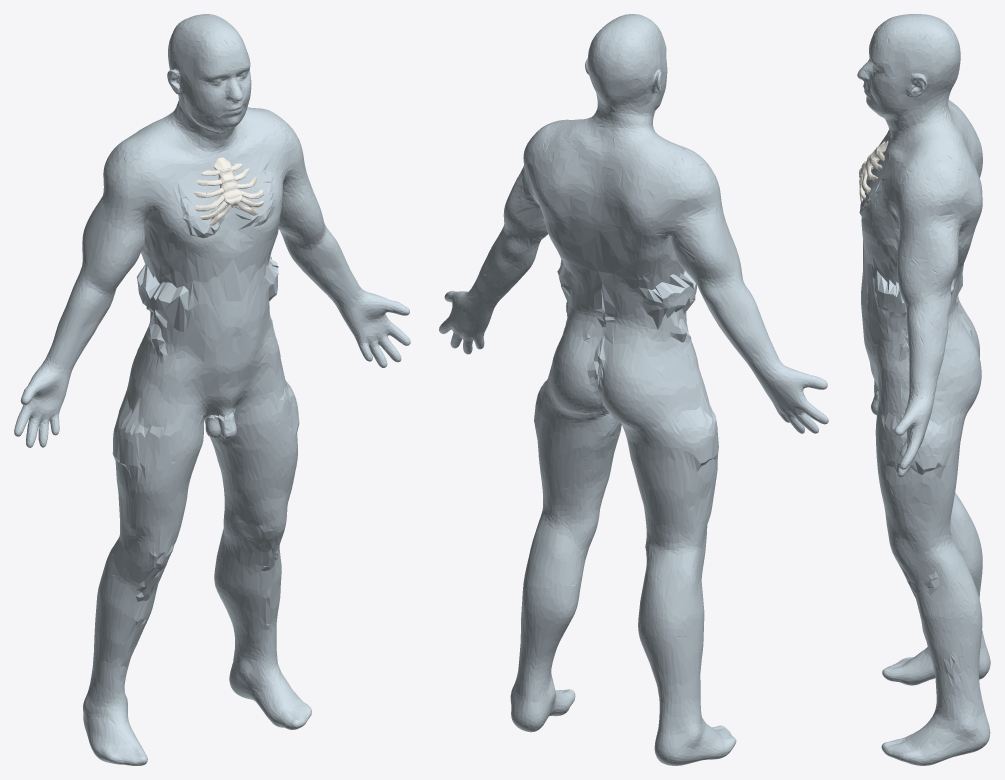
The model's file is body.glb.
3 renders of one model, left to right at view 1: azimuth 30°, elevation 25°; view 2: azimuth 150°, elevation 25°; view 3: azimuth 270°, elevation 25°, orthographic. The views are drawn at different scales.
Visible parts, largest first — view 1: VH_M_skin, ribcage; view 2: VH_M_skin; view 3: VH_M_skin, ribcage.
Boxes of the visible parts, x1,y1,x2,y2 form: VH_M_skin: (14,14,410,765); ribcage: (193,157,263,225); VH_M_skin: (439,14,828,765); VH_M_skin: (857,14,990,765); ribcage: (859,140,888,202).
Bounding box in the file's own units: 1.03 × 1.8 × 0.3078.
